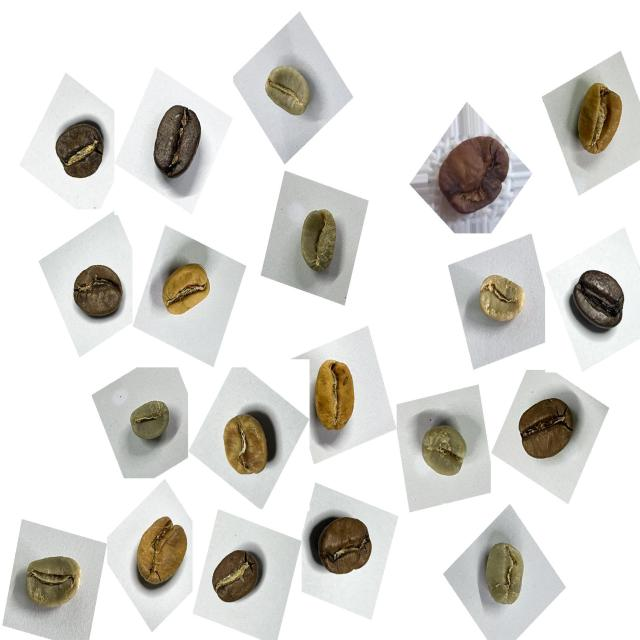bad: (431, 123, 519, 226)
dark: (142, 94, 212, 188), (564, 256, 636, 342)
green: (14, 539, 93, 626), (471, 531, 538, 620), (285, 196, 351, 286), (412, 414, 478, 493), (255, 56, 321, 130), (466, 265, 532, 337), (120, 391, 178, 455)
light: (124, 508, 196, 603), (566, 75, 638, 170), (301, 347, 370, 443), (211, 401, 281, 489), (152, 252, 220, 330)
medium: (308, 506, 384, 591), (510, 386, 585, 472), (47, 111, 114, 192), (204, 540, 270, 618), (64, 252, 130, 328)
